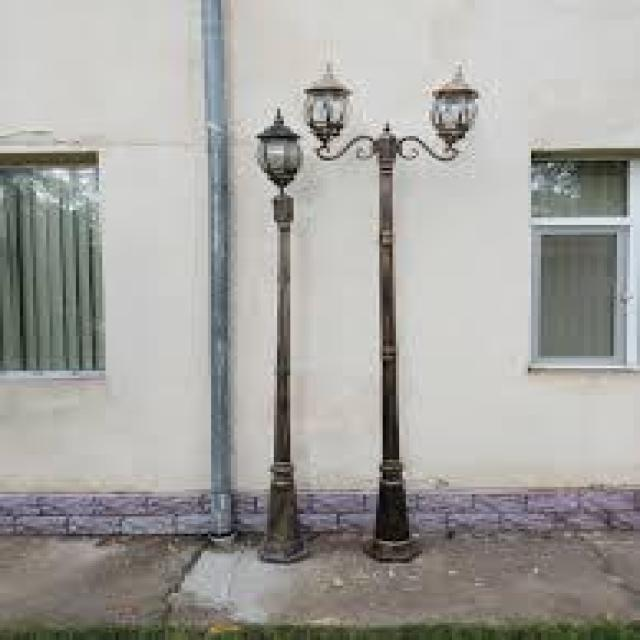pole: (256, 276, 320, 574), (358, 276, 423, 559)
